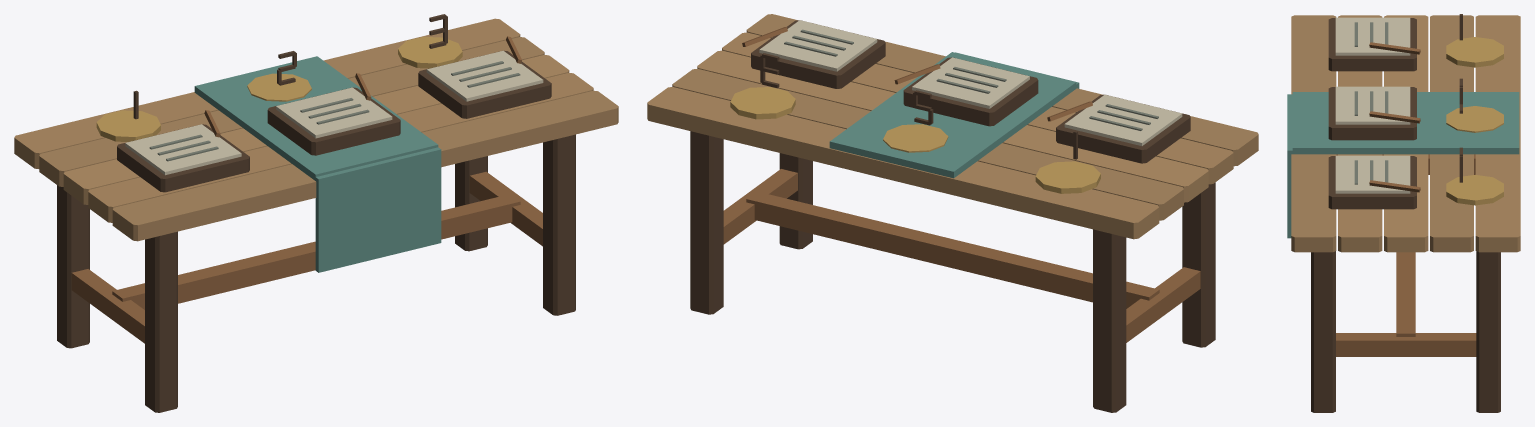
Rendered from market_judge_table.glb.
The picture shows the model from 3 angles, left to right: view 1: azimuth 30°, elevation 25°; view 2: azimuth 150°, elevation 25°; view 3: azimuth 270°, elevation 25°; orthographic projection. The views are drawn at different scales.
Parts seen in each view (by area): view 1: geometry; view 2: geometry; view 3: geometry.
Part boxes in pixels (<box>): geometry: <box>14,14,618,412</box>; geometry: <box>647,14,1258,412</box>; geometry: <box>1287,14,1520,412</box>.
Bounding box in the file's own units: 1.9 × 0.936 × 0.845.
